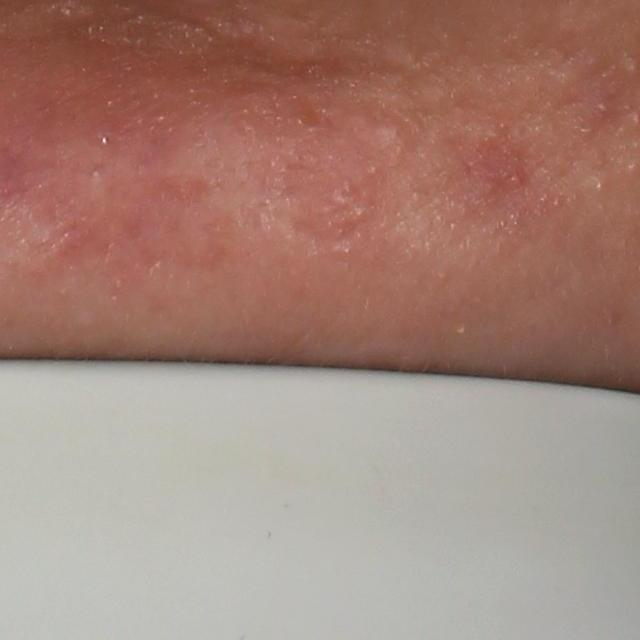comedo: (595, 179, 608, 194)
